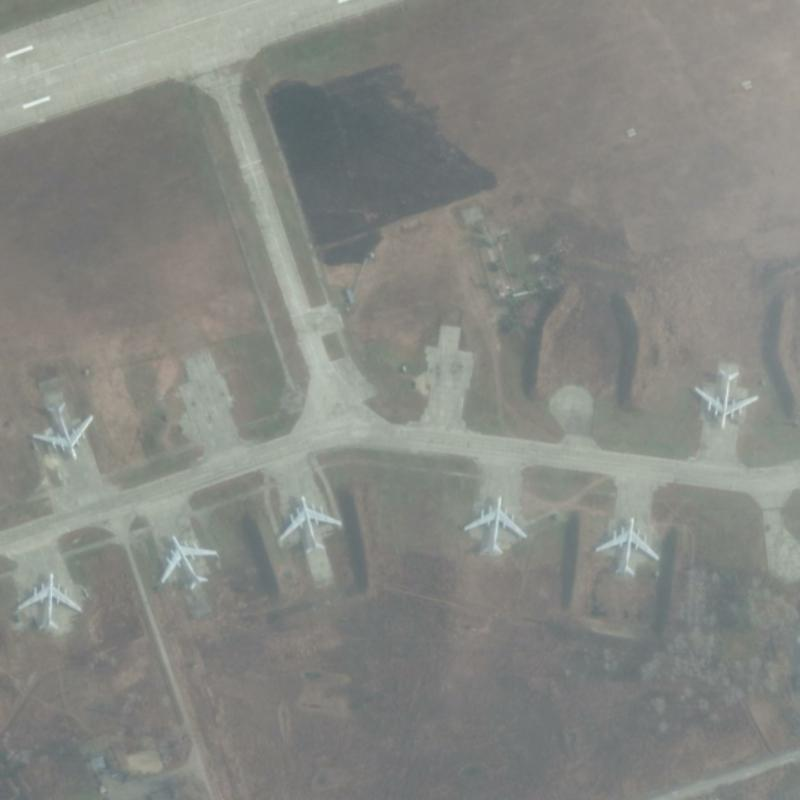A17: (461, 493, 527, 556), (693, 367, 759, 430), (275, 493, 342, 555), (593, 515, 660, 577), (15, 570, 82, 630), (30, 400, 94, 461), (158, 533, 218, 591)
